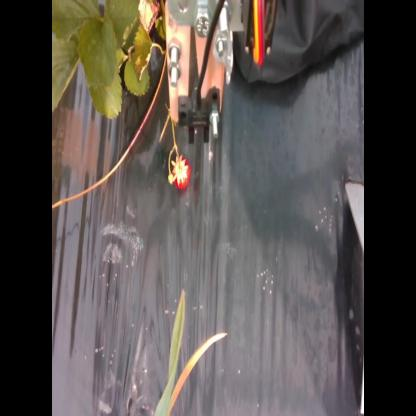ripe: (170, 157, 192, 192)
